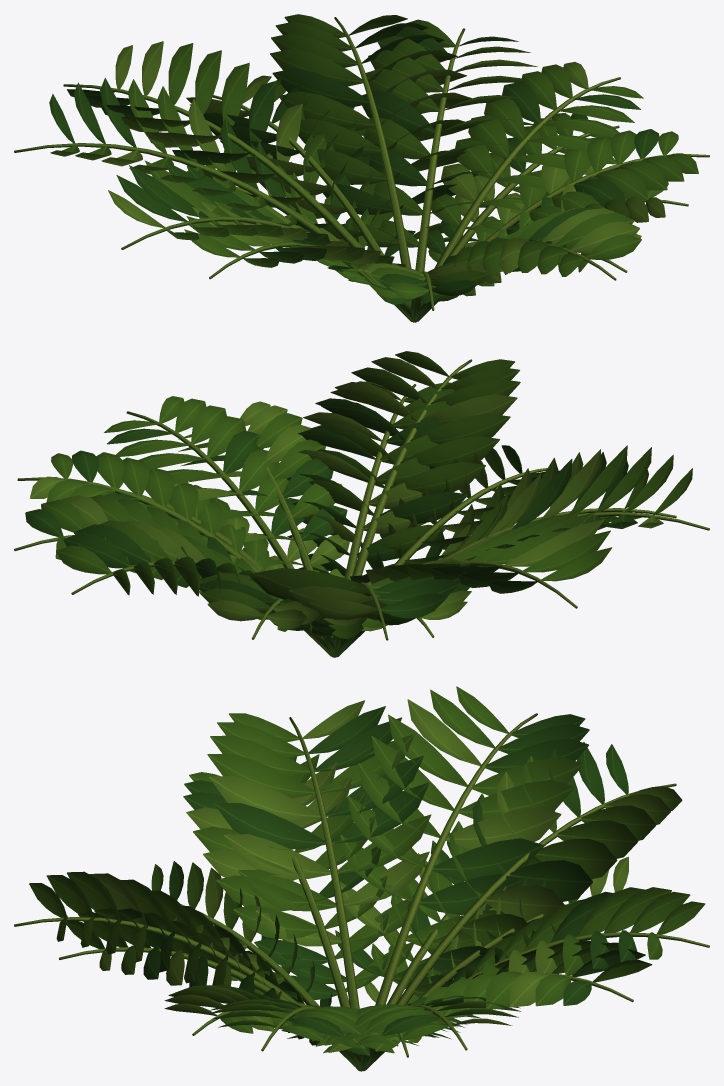
The model's file is Fern_2.glb.
3 views of the same model, one above another, from view 1: azimuth 30°, elevation 25°; view 2: azimuth 150°, elevation 25°; view 3: azimuth 270°, elevation 25° (orthographic). The views are drawn at different scales.
Parts seen in each view (by area): view 1: Fern_2_Leaves.004, Fern_2_Stems.004; view 2: Fern_2_Leaves.004, Fern_2_Stems.004; view 3: Fern_2_Leaves.004, Fern_2_Stems.004.
Part boxes in pixels (x1,y1,x2,y2): Fern_2_Leaves.004: (49,14,698,304); Fern_2_Stems.004: (14,17,709,322); Fern_2_Leaves.004: (25,351,692,639); Fern_2_Stems.004: (14,359,709,657); Fern_2_Leaves.004: (29,686,705,1055); Fern_2_Stems.004: (14,713,709,1071).
Size of the model in its own units: 1.37 by 0.4887 by 1.35.
1 material, 1 textured.
